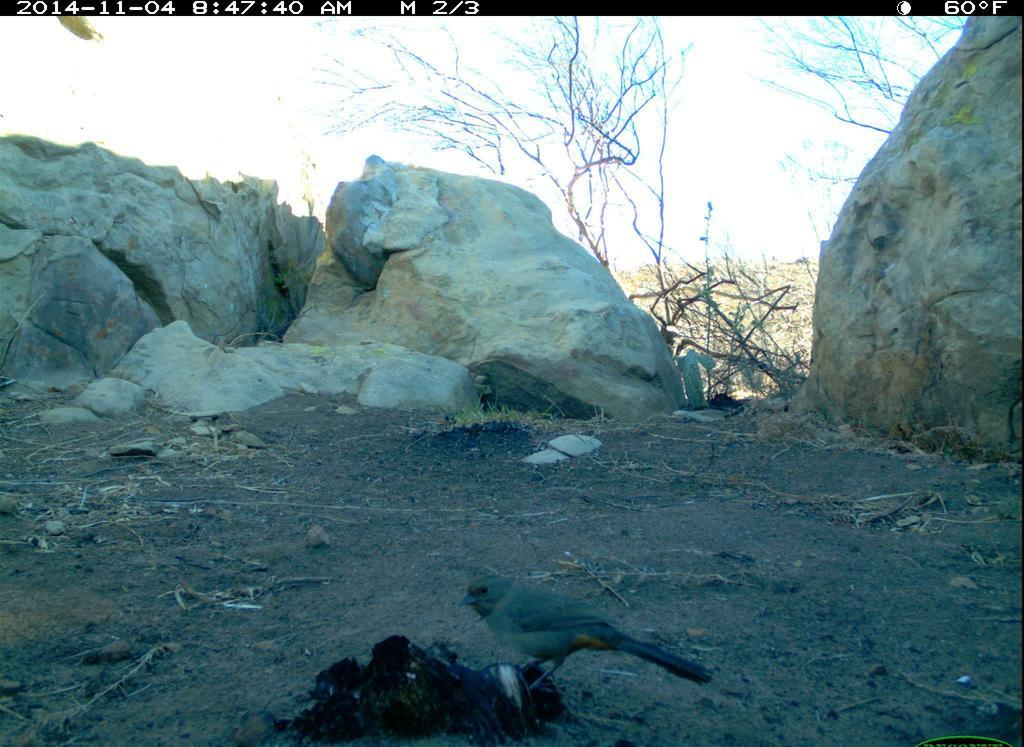bird: (457, 573, 717, 702)
